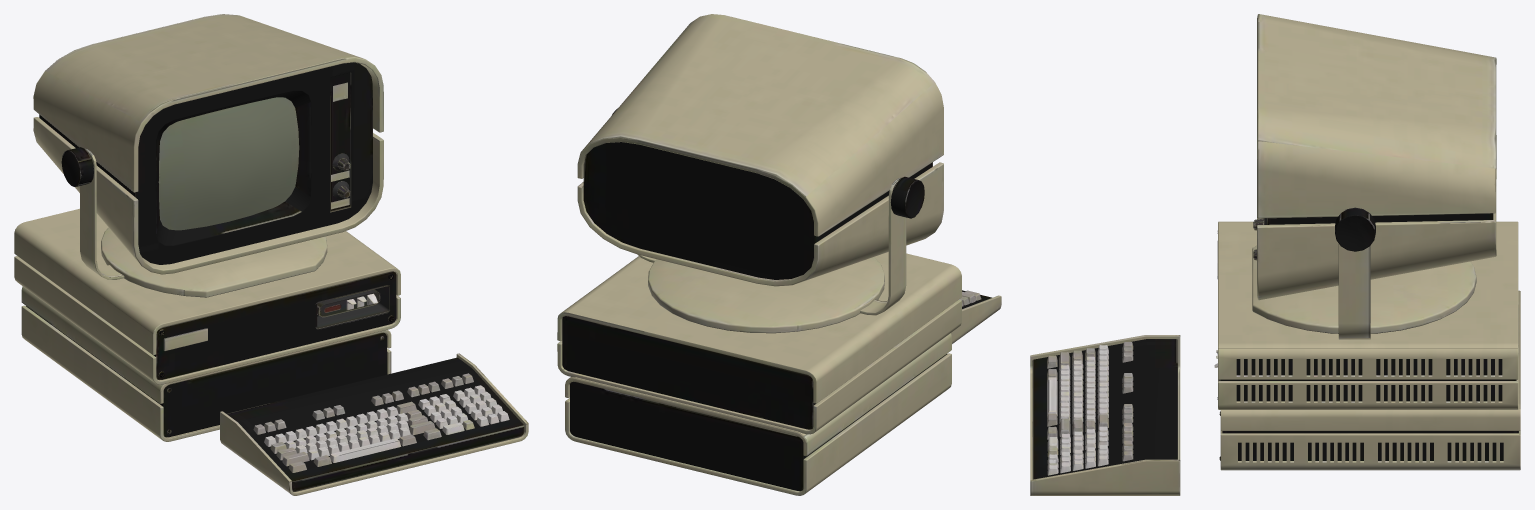
File: retro_pc_comp.glb
3 views of the same model, side by side, from view 1: azimuth 30°, elevation 25°; view 2: azimuth 150°, elevation 25°; view 3: azimuth 270°, elevation 25° (orthographic). The views are drawn at different scales.
Parts seen in each view (by area): view 1: Cube075_0; view 2: Cube075_0; view 3: Cube075_0.
Boxes of the visible parts, x1=… form: Cube075_0: x1=14, y1=14, x2=528, y2=495; Cube075_0: x1=557, y1=14, x2=1001, y2=495; Cube075_0: x1=1030, y1=14, x2=1520, y2=495.
Bounding box in the file's own units: 2.55 × 2.57 × 3.27.
Materials: 1 (1 with a texture image).
